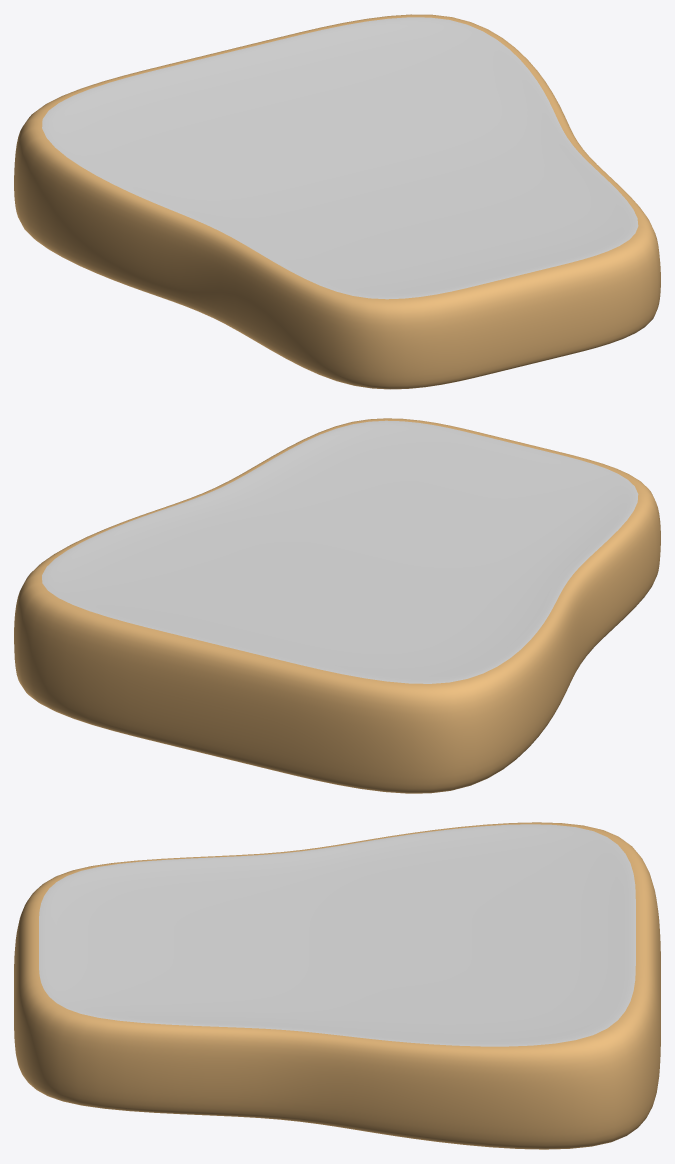
The model's file is toast.glb.
3 views of the same model, one above another, from view 1: azimuth 30°, elevation 25°; view 2: azimuth 150°, elevation 25°; view 3: azimuth 270°, elevation 25° (orthographic). The views are drawn at different scales.
Parts seen in each view (by area): view 1: Cube_0; view 2: Cube_0; view 3: Cube_0.
Boxes of the visible parts, left/top/right/bottom form: Cube_0: left=14, top=14, right=660, bottom=389; Cube_0: left=14, top=418, right=660, bottom=793; Cube_0: left=14, top=822, right=660, bottom=1149.
Bounding box in the file's own units: 2.66 × 0.5435 × 3.02.
